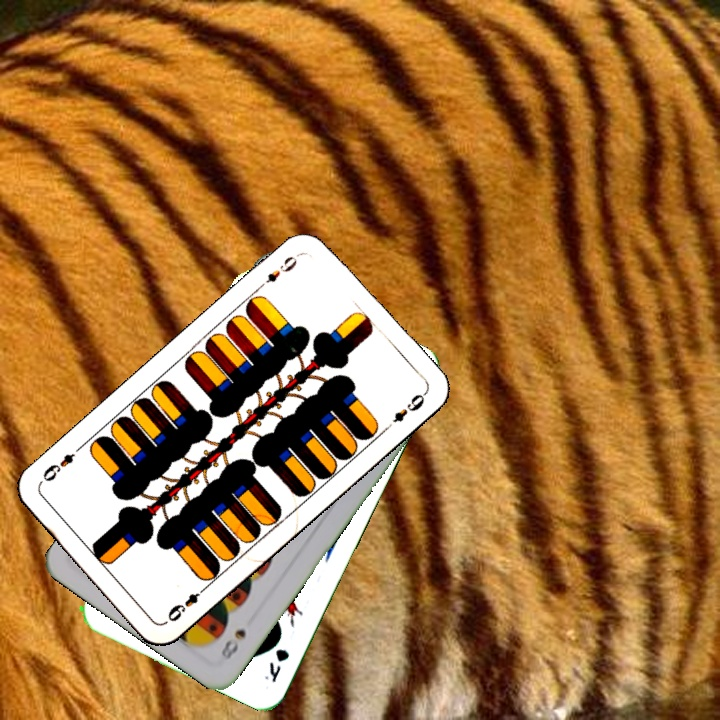E9: (254, 249, 303, 292), (163, 582, 210, 625)
GK: (260, 644, 292, 686)
S8: (216, 624, 249, 664)
